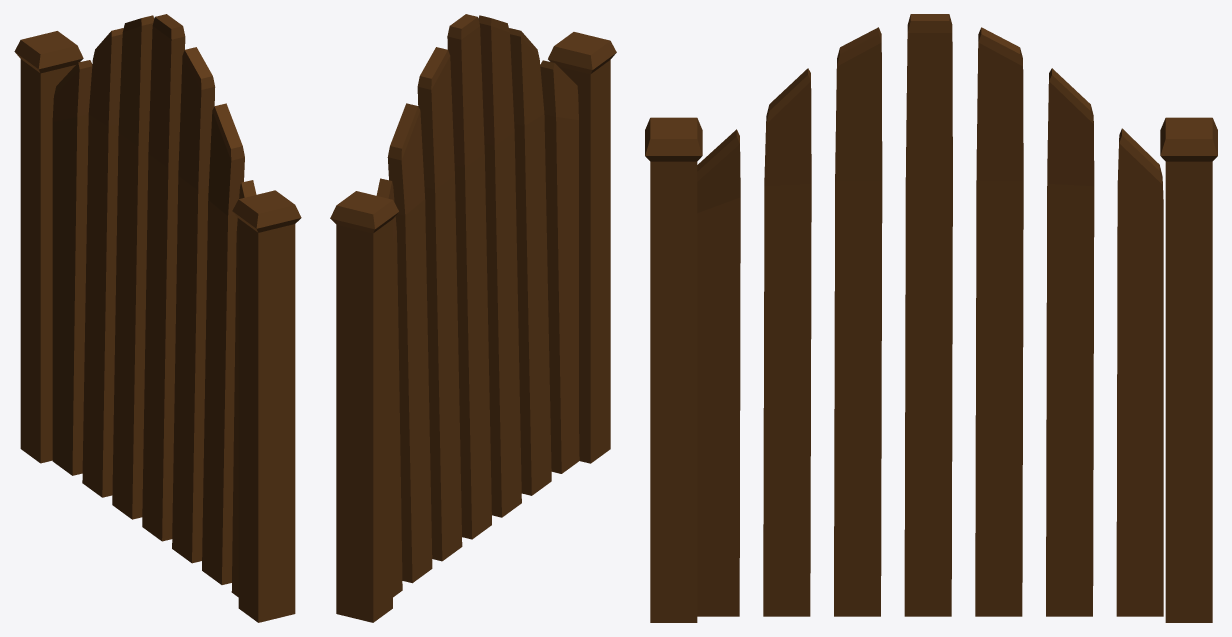
The model's file is fence .fbx.
3 views of the same model, side by side, from view 1: azimuth 30°, elevation 25°; view 2: azimuth 150°, elevation 25°; view 3: azimuth 270°, elevation 25° (orthographic). The views are drawn at different scales.
Visible parts, largest first — view 1: Cube.003; view 2: Cube.003; view 3: Cube.003.
Part boxes in pixels (left/top/right/bottom): Cube.003: left=14, top=14, right=301, bottom=622; Cube.003: left=330, top=14, right=616, bottom=622; Cube.003: left=645, top=14, right=1217, bottom=622.
Bounding box in the file's own units: 133 × 1438 × 1242.
